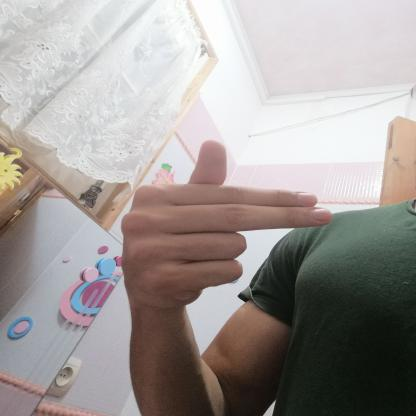GHAYN: (102, 130, 350, 322)
